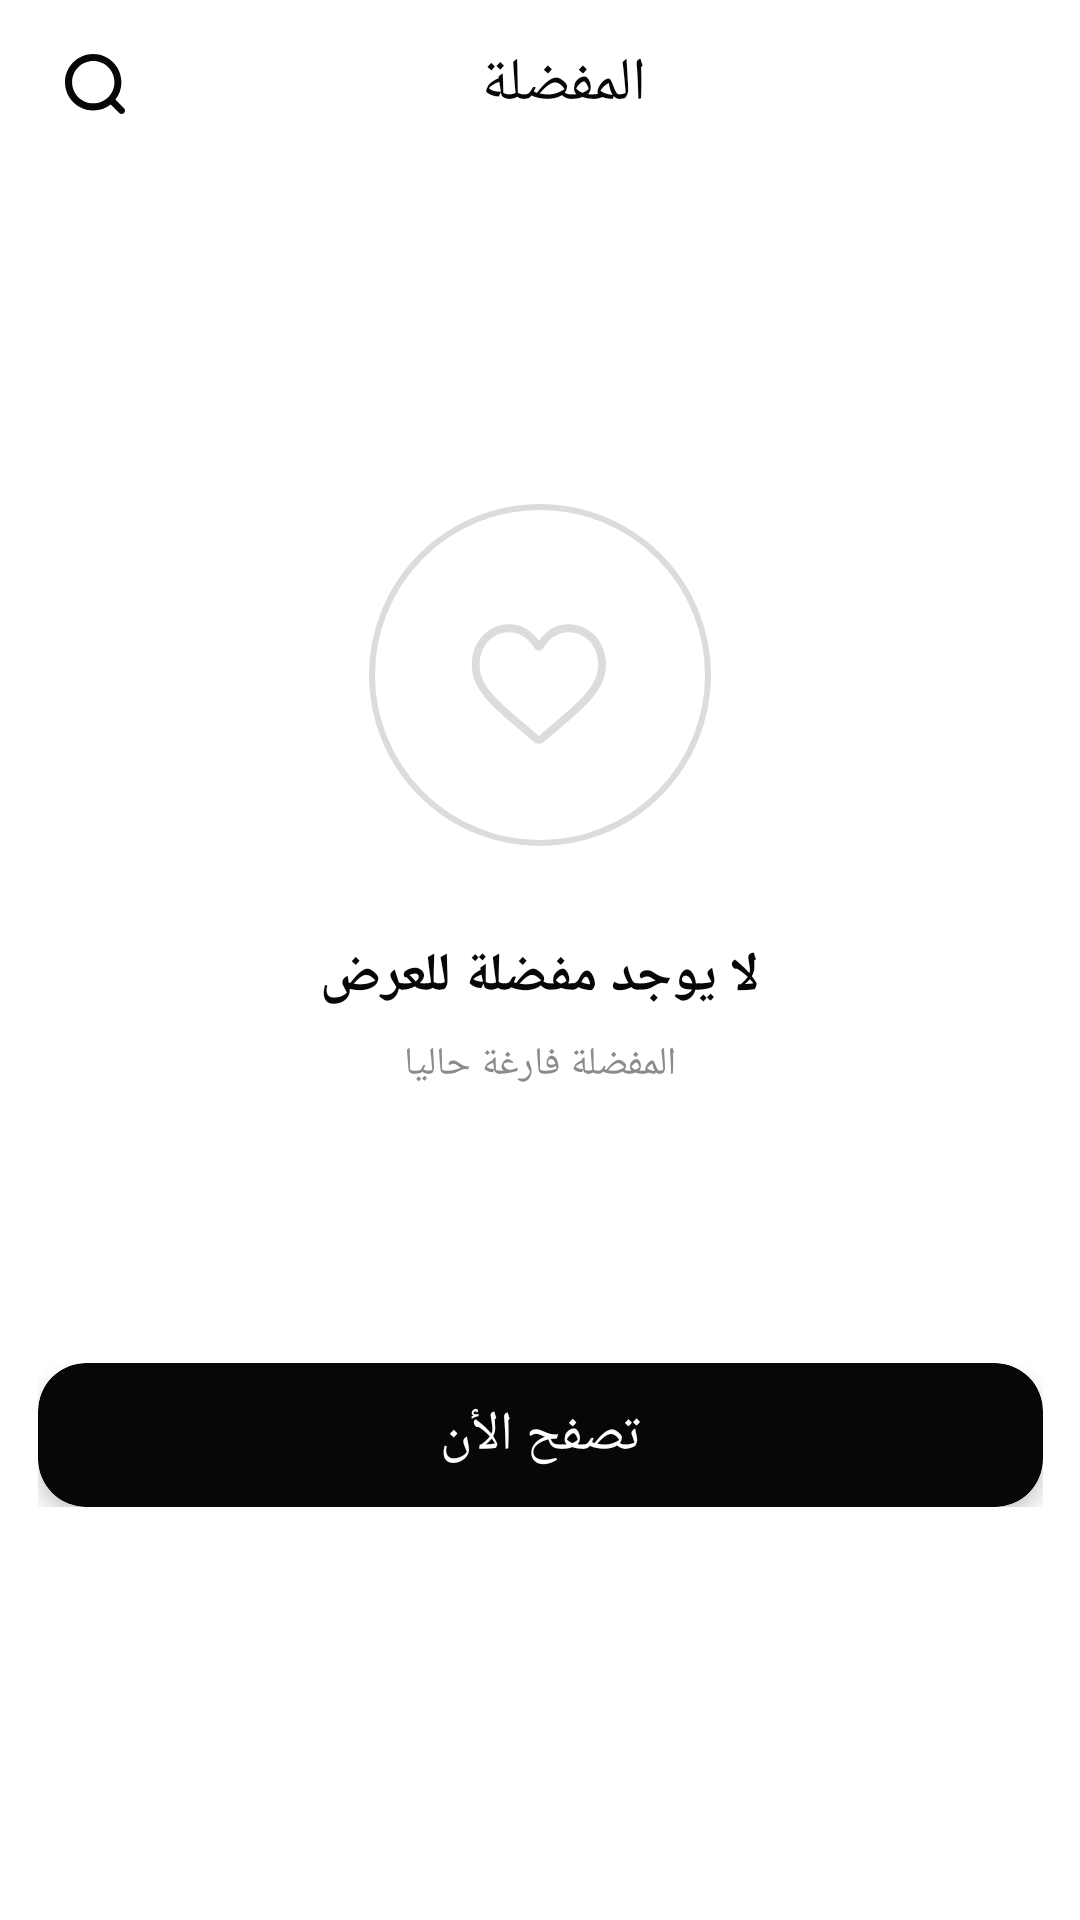

Point at icon controls on the screen. Image size 1080w x 1920h, points as [x,y].
search: [95,84]
